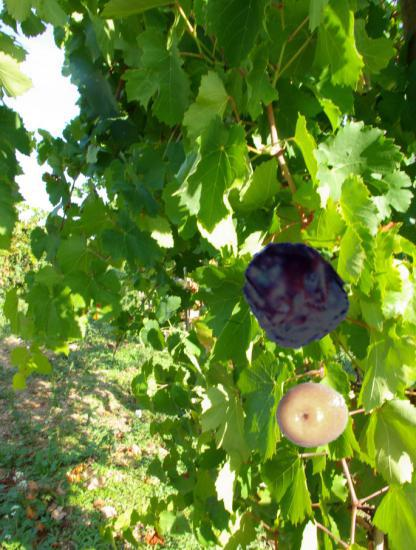Dates: (240, 238, 349, 347)
Kumquats: (276, 378, 349, 451)
